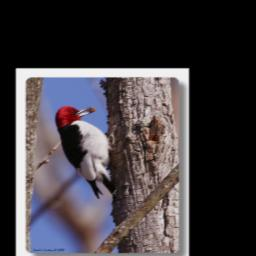Woodpecker: (55, 106, 118, 198)
